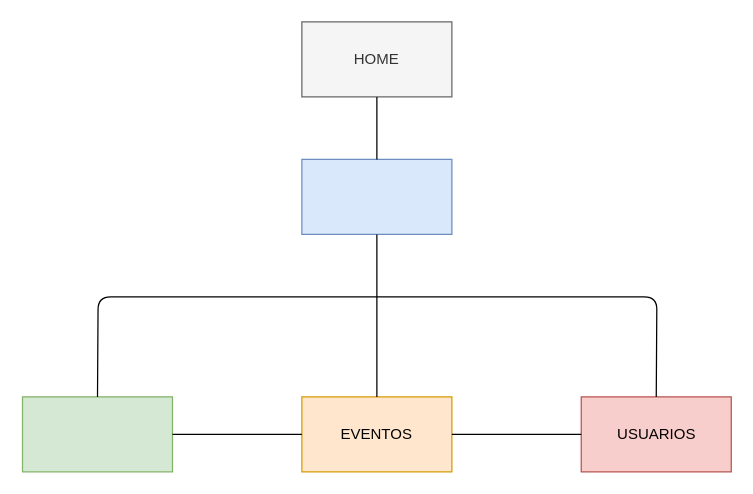
This 753x494 diagram has some shape labels left out. Each missing label, with the centre of its shape:
"CATEGORIAS" goes at point (96, 434).
"LOGIN" goes at point (376, 196).
